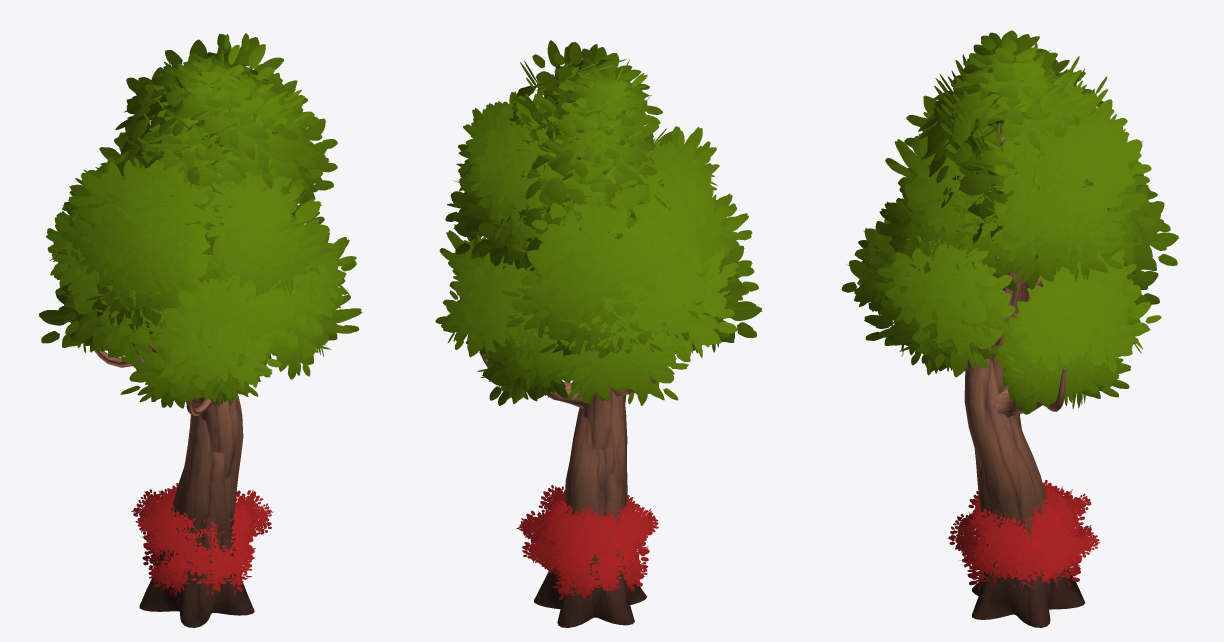
The model's file is nature.glb.
3 views of the same model, side by side, from view 1: azimuth 30°, elevation 25°; view 2: azimuth 150°, elevation 25°; view 3: azimuth 270°, elevation 25° (orthographic). The views are drawn at different scales.
Parts seen in each view (by area): view 1: CommonTree_1, CommonTree_2, Bush_Common; view 2: CommonTree_1, CommonTree_2, Bush_Common; view 3: CommonTree_2, CommonTree_1, Bush_Common.
Boxes of the visible parts, x1,y1,x2,y2 form: CommonTree_1: (38, 60, 361, 627); CommonTree_2: (46, 33, 356, 627); Bush_Common: (131, 483, 273, 596); CommonTree_1: (453, 91, 762, 622); CommonTree_2: (435, 40, 758, 627); Bush_Common: (516, 485, 658, 602); CommonTree_2: (841, 30, 1161, 627); CommonTree_1: (854, 59, 1179, 626); Bush_Common: (947, 480, 1099, 589).
Size of the model in its own units: 4.46 by 7.64 by 4.65.
3 materials, 3 textured.
